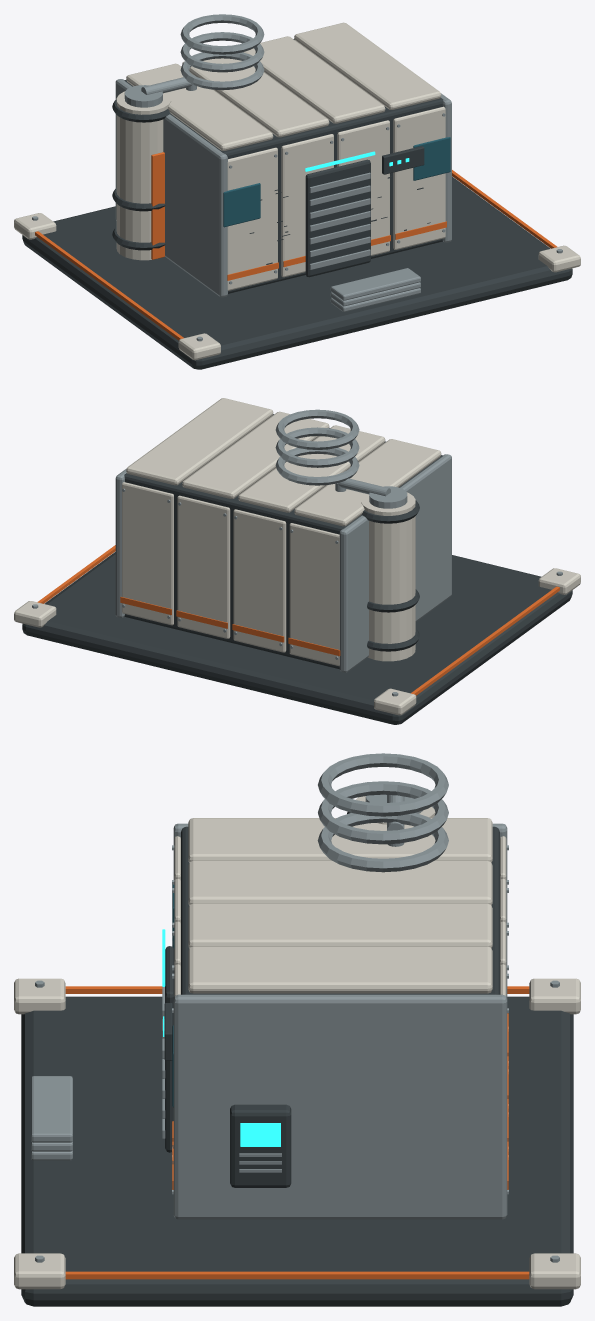
File: SM_NavigationSystemsPlant_Body.002.fbx
The picture shows the model from 3 angles, top to bottom: view 1: azimuth 30°, elevation 25°; view 2: azimuth 150°, elevation 25°; view 3: azimuth 270°, elevation 25°; orthographic projection. The views are drawn at different scales.
Parts seen in each view (by area): view 1: SM_NavigationSystemsPlant_Body.002; view 2: SM_NavigationSystemsPlant_Body.002; view 3: SM_NavigationSystemsPlant_Body.002.
Boxes of the visible parts, x1,y1,x2,y2 form: SM_NavigationSystemsPlant_Body.002: (14, 14, 580, 369); SM_NavigationSystemsPlant_Body.002: (14, 398, 580, 724); SM_NavigationSystemsPlant_Body.002: (14, 753, 580, 1306).
Bounding box in the file's own units: 572 × 462 × 315.
